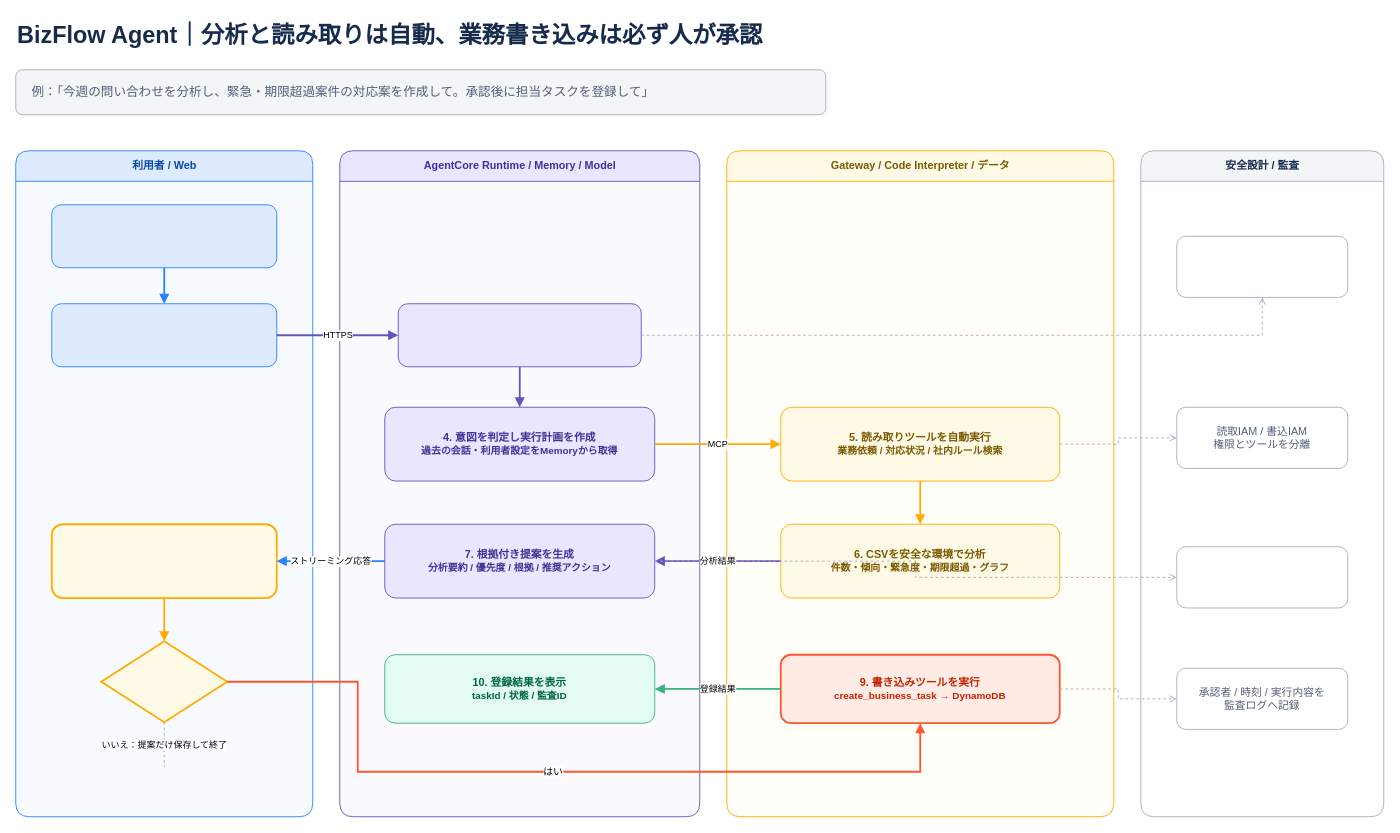
Some shapes in this 1400 by 833 pixel diagram are drawn without their labels. Each missing label, with the centre of its shape:
"1. ALB + Cognitoでログイン 認証Cookie・OIDCヘッダーを利用" belongs at (x=164, y=236).
"2. 自然言語で業務依頼 期間・目的・対象データを指定" belongs at (x=164, y=335).
"3. Runtimeを呼び出す Task Role / SigV4 / session_id" belongs at (x=519, y=335).
"8. 「対応タスクを登録」カード 担当者・期限・対応内容を表示" belongs at (x=163, y=560).
"CloudWatch Trace 入力・判断・ツール結果を追跡" belongs at (x=1262, y=577).
"JWT検証 ユーザー別セッション分離" belongs at (x=1262, y=266).
"承認する？" belongs at (x=164, y=681).
